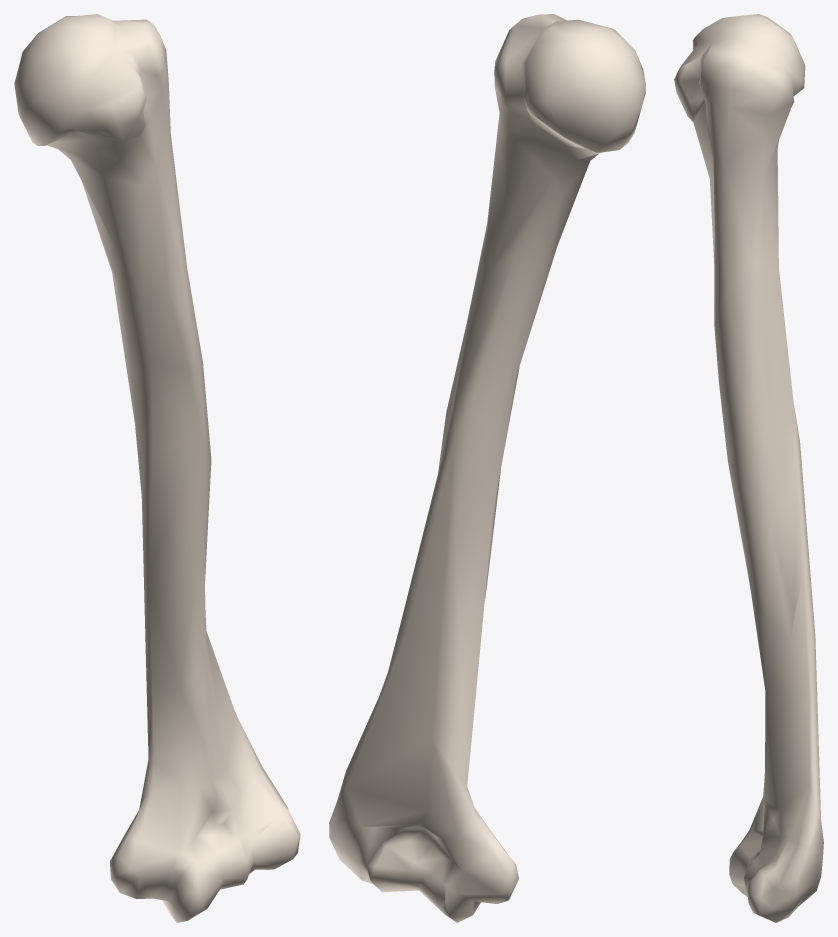
The model's file is left_humerus.glb.
The picture shows the model from 3 angles, left to right: view 1: azimuth 30°, elevation 25°; view 2: azimuth 150°, elevation 25°; view 3: azimuth 270°, elevation 25°; orthographic projection. The views are drawn at different scales.
Visible parts, largest first — view 1: Humerus.r; view 2: Humerus.r; view 3: Humerus.r.
Part boxes in pixels (<box>): Humerus.r: <box>14,14,300,922</box>; Humerus.r: <box>329,14,645,922</box>; Humerus.r: <box>674,14,823,922</box>.
Bounding box in the file's own units: 0.1025 × 0.3163 × 0.0516.
